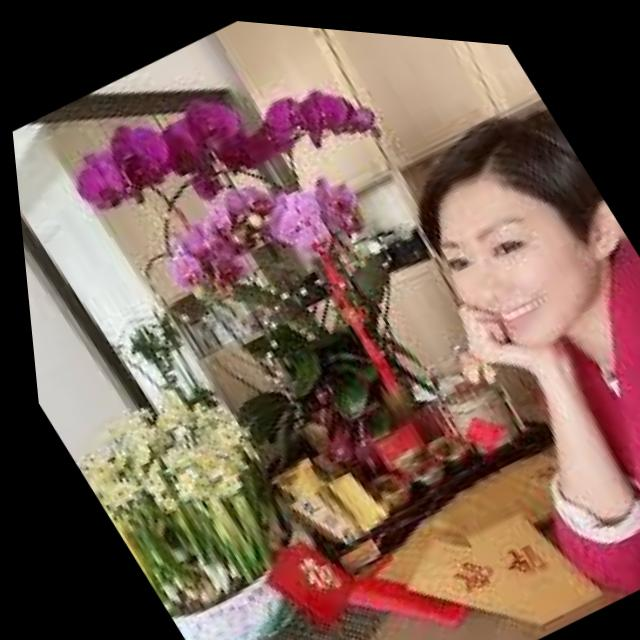Flower: (55, 351, 292, 571), (246, 53, 383, 173), (147, 74, 263, 183), (143, 210, 258, 318), (85, 99, 191, 206), (181, 156, 293, 252), (45, 134, 140, 230), (280, 156, 372, 241), (259, 179, 340, 259)
